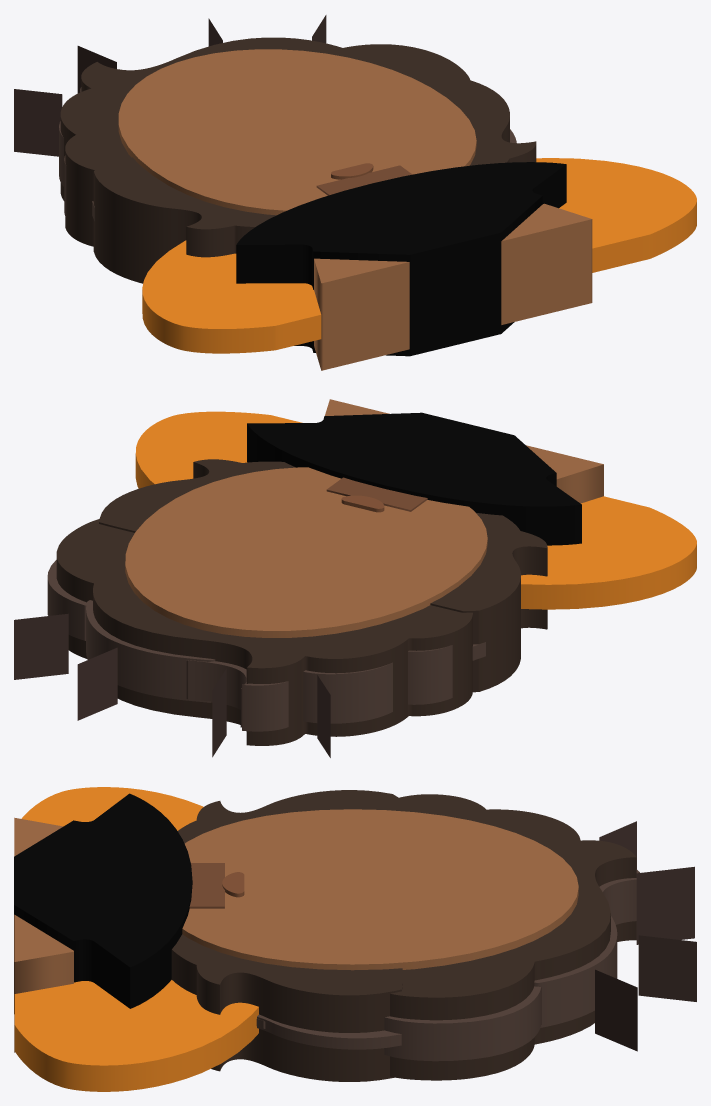
Rendered from emoji_u1f647_1f3fe.glb.
The picture shows the model from 3 angles, top to bottom: view 1: azimuth 30°, elevation 25°; view 2: azimuth 150°, elevation 25°; view 3: azimuth 270°, elevation 25°; orthographic projection. The views are drawn at different scales.
Visible parts, largest first — view 1: emoji_u1f647_1f3fe; view 2: emoji_u1f647_1f3fe; view 3: emoji_u1f647_1f3fe.
Boxes of the visible parts, x1=… form: emoji_u1f647_1f3fe: x1=14, y1=15, x2=696, y2=370; emoji_u1f647_1f3fe: x1=14, y1=399, x2=696, y2=757; emoji_u1f647_1f3fe: x1=14, y1=787, x2=696, y2=1091.
Size of the model in its own units: 0.0317 by 0.0058 by 0.0328.
